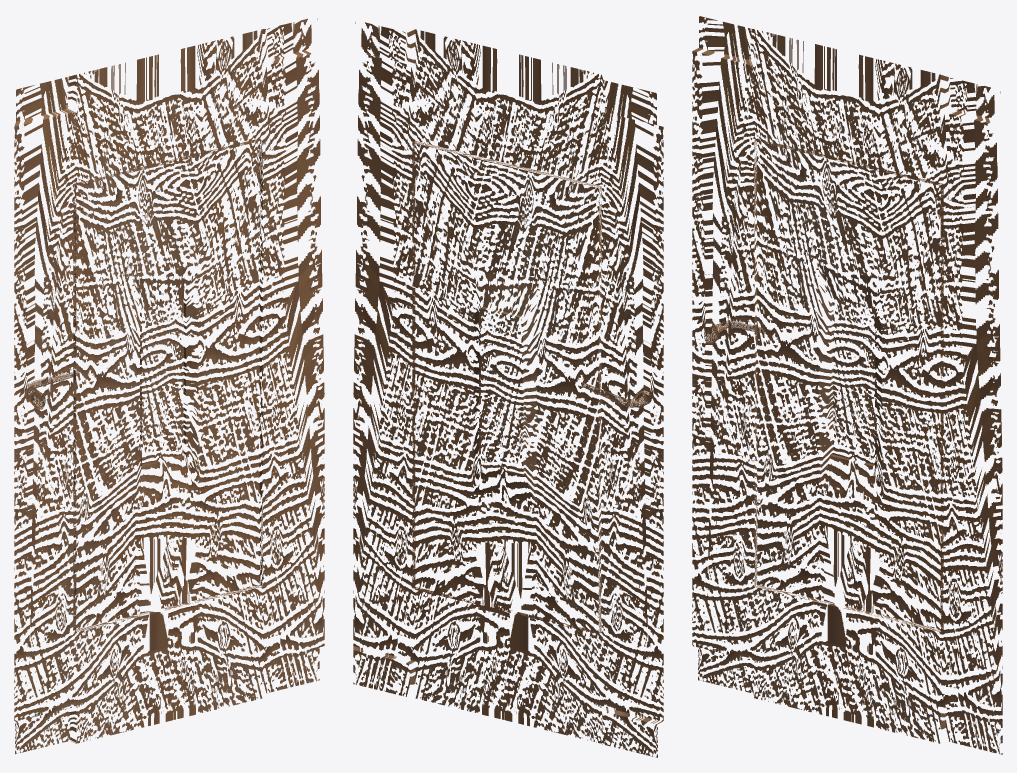
Rendered from porta.fbx.
The picture shows the model from 3 angles, left to right: view 1: azimuth 30°, elevation 25°; view 2: azimuth 150°, elevation 25°; view 3: azimuth 330°, elevation 25°; orthographic projection.
Parts seen in each view (by area): view 1: Plane.001, Plane.002; view 2: Plane.001, Plane.002; view 3: Plane.001, Plane.002.
Boxes of the visible parts, bbox=[...] form: Plane.001: bbox=[14, 18, 324, 754]; Plane.002: bbox=[25, 371, 79, 410]; Plane.001: bbox=[353, 22, 663, 757]; Plane.002: bbox=[581, 382, 651, 407]; Plane.001: bbox=[692, 16, 1002, 754]; Plane.002: bbox=[704, 320, 774, 344].
Bounding box in the file's own units: 542 × 1116 × 50.
